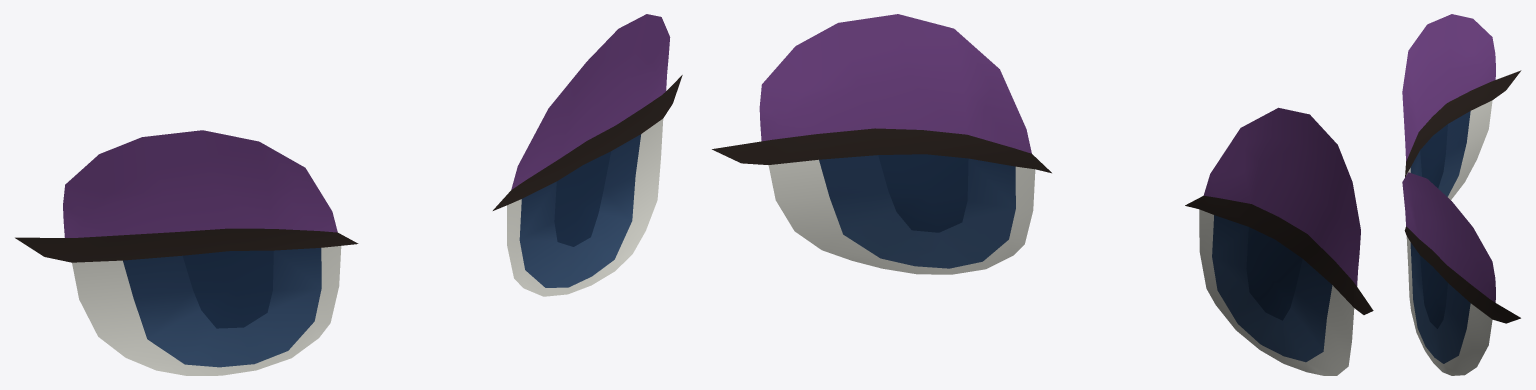
Rendered from Eye_BlueB_7.fbx.
The picture shows the model from 3 angles, left to right: view 1: azimuth 30°, elevation 25°; view 2: azimuth 150°, elevation 25°; view 3: azimuth 270°, elevation 25°; orthographic projection. The views are drawn at different scales.
Visible parts, largest first — view 1: Eye_BlueB_7; view 2: Eye_BlueB_7; view 3: Eye_BlueB_7.
Boxes of the visible parts, box(x1,y1,x2,y2) form: Eye_BlueB_7: box(15, 14, 682, 375); Eye_BlueB_7: box(712, 14, 1373, 375); Eye_BlueB_7: box(1402, 14, 1521, 375).
Bounding box in the file's own units: 41.23 × 14.98 × 8.38.
